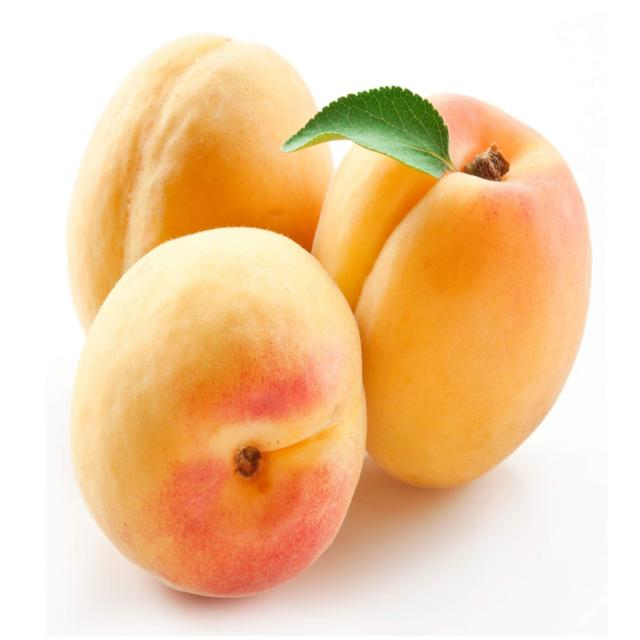Kayisi: (71, 229, 366, 595)
Yaprak: (281, 87, 454, 178)
